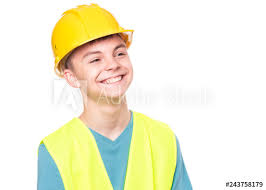Person_wearing_helmet: (47, 0, 129, 79)
